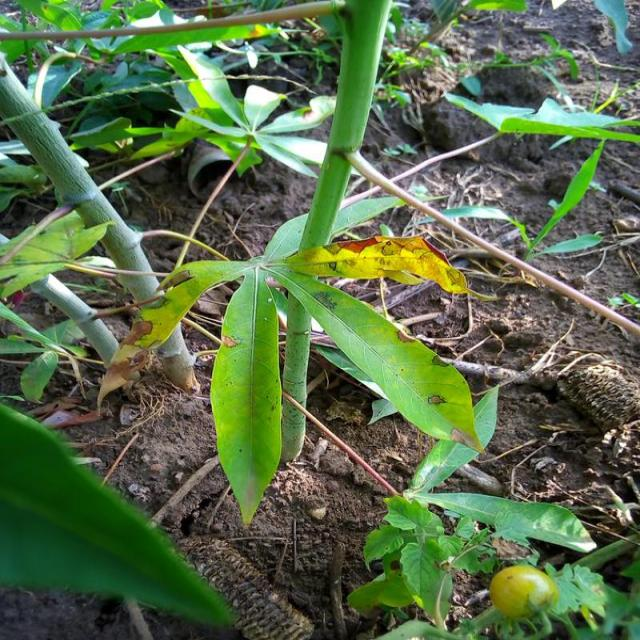cassava leaf: (110, 208, 482, 524), (0, 401, 238, 629), (209, 264, 283, 525)
